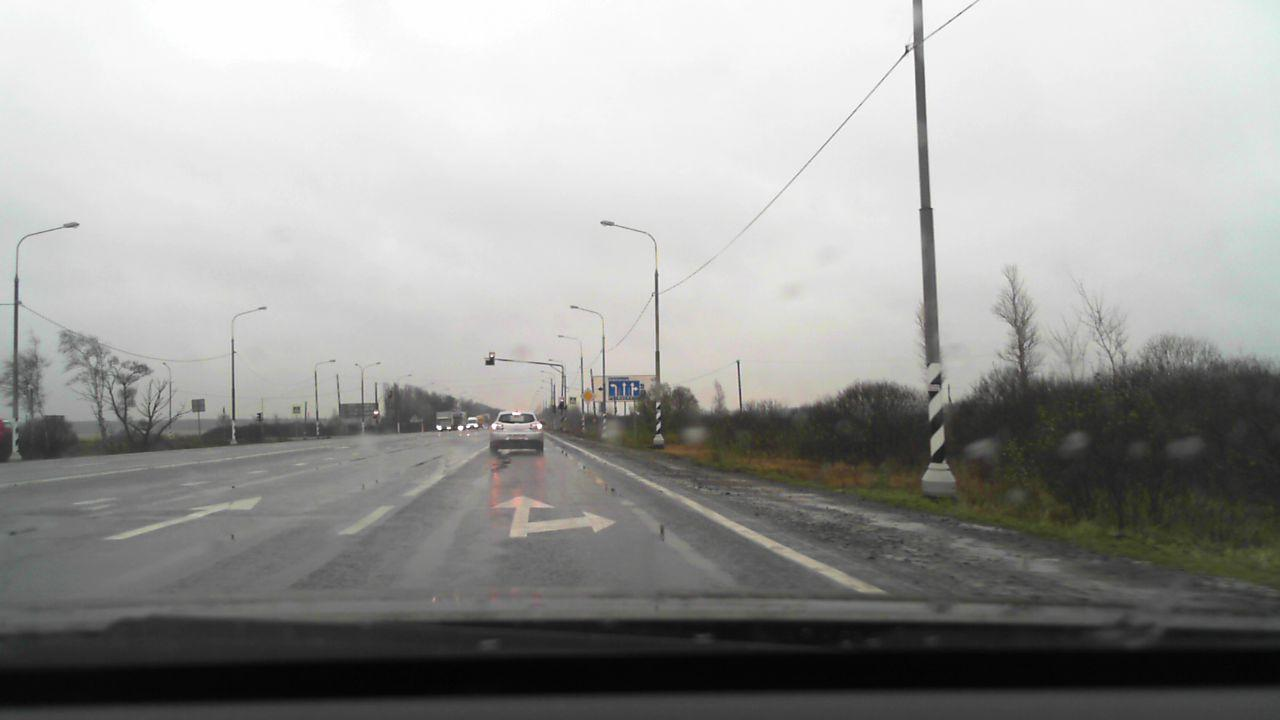2_1: (578, 388, 593, 404)
5_15_1: (608, 380, 639, 397)
